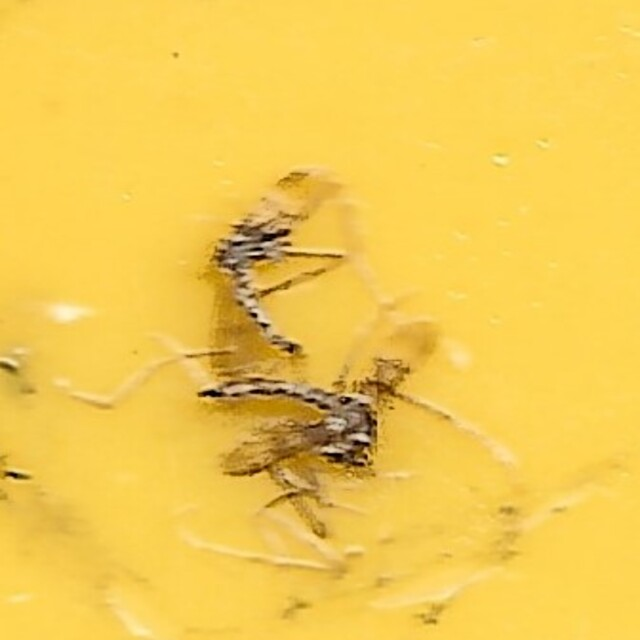Nematocera: (194, 322, 450, 484), (190, 156, 350, 364)
